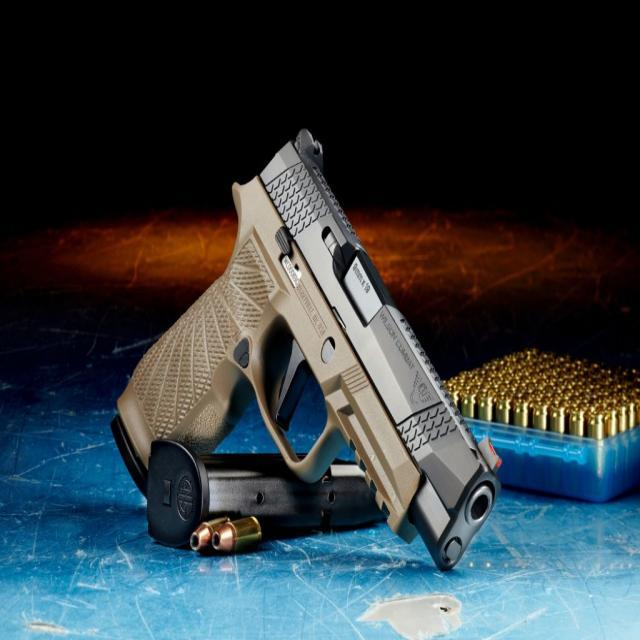pistol: (123, 117, 499, 580)
